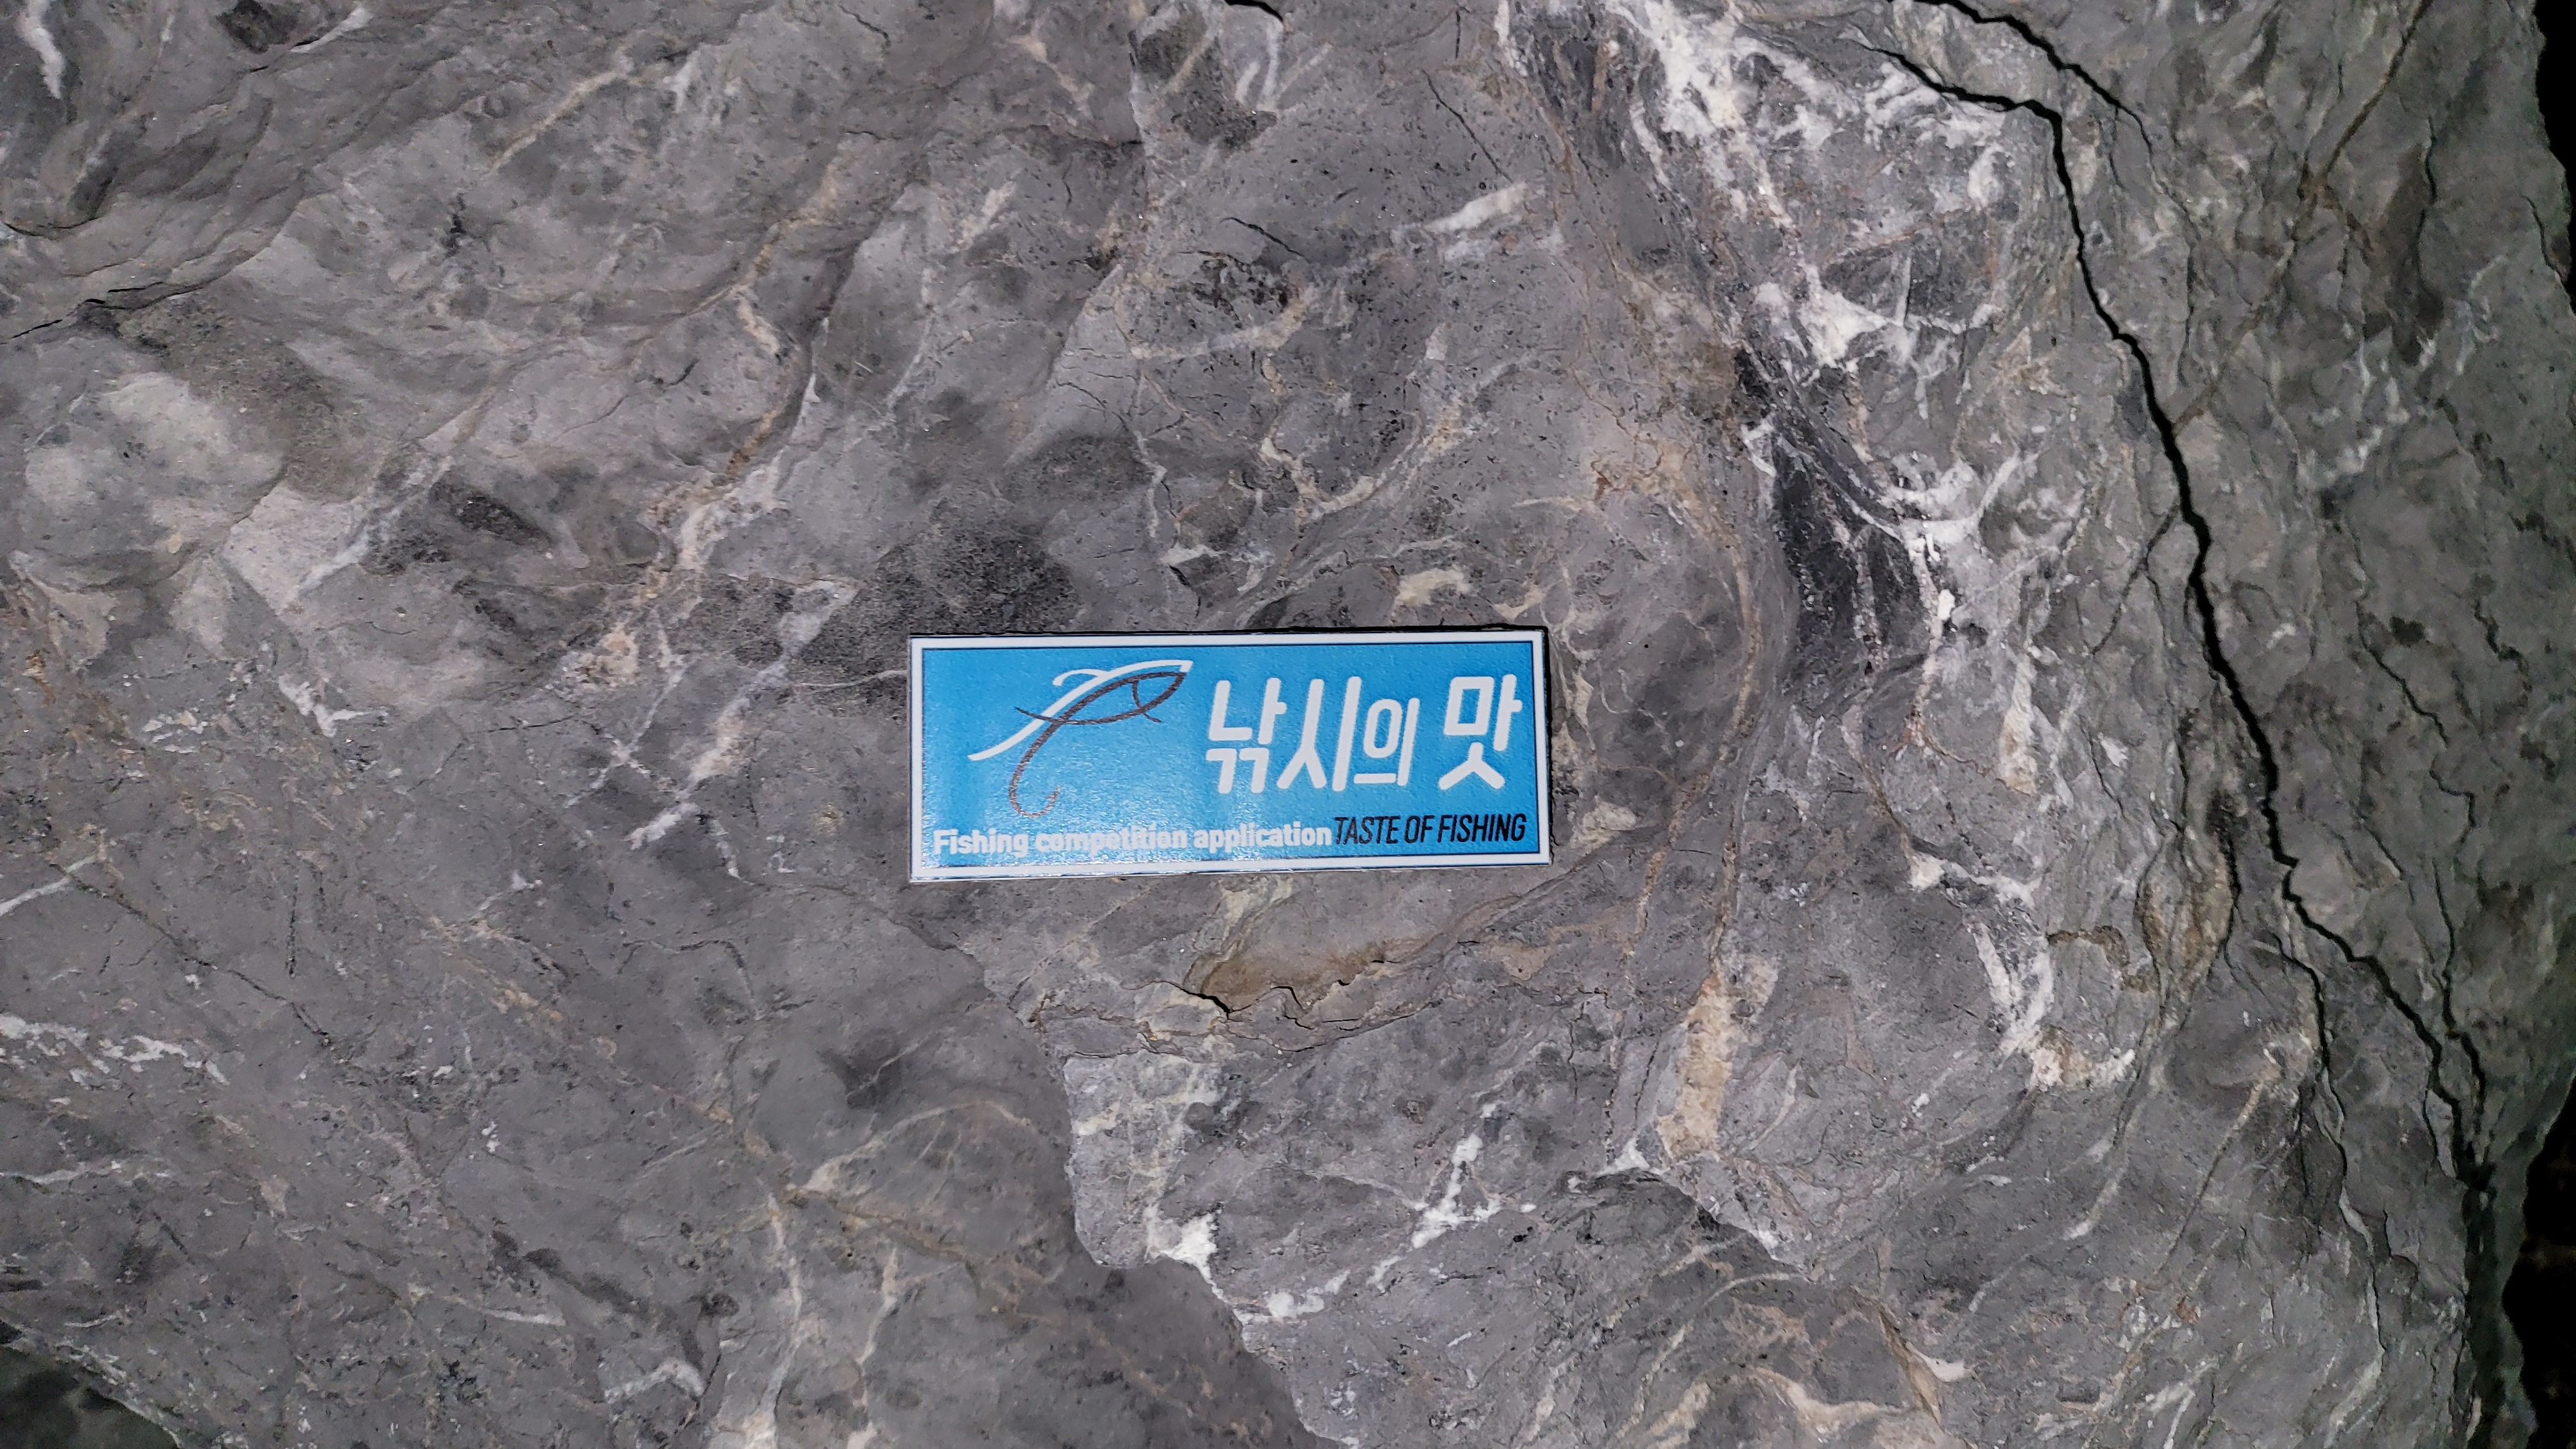tag: (906, 635, 1550, 872)
